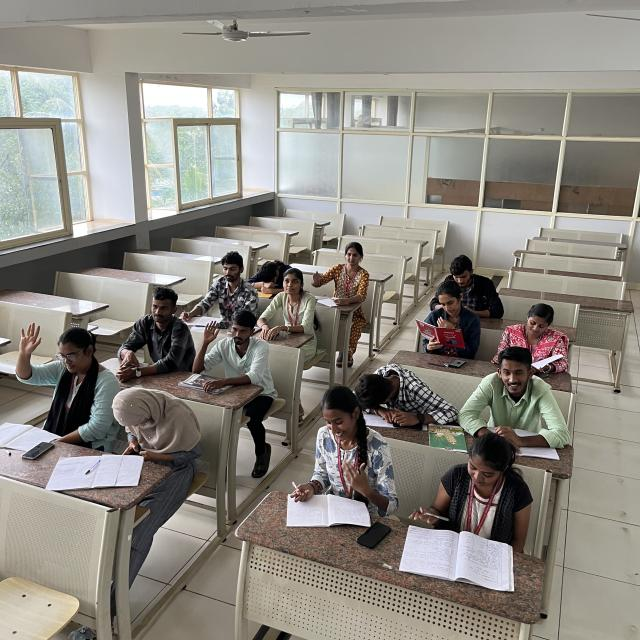Hand Rising: (6, 312, 115, 444), (185, 304, 272, 403)
Reading: (402, 432, 526, 566), (492, 297, 573, 375), (409, 278, 475, 354)
Sleeping: (348, 346, 442, 418), (249, 244, 295, 298)
Using Phone: (96, 368, 212, 470), (105, 279, 195, 381)
Writing: (285, 381, 395, 513), (175, 247, 262, 331)
